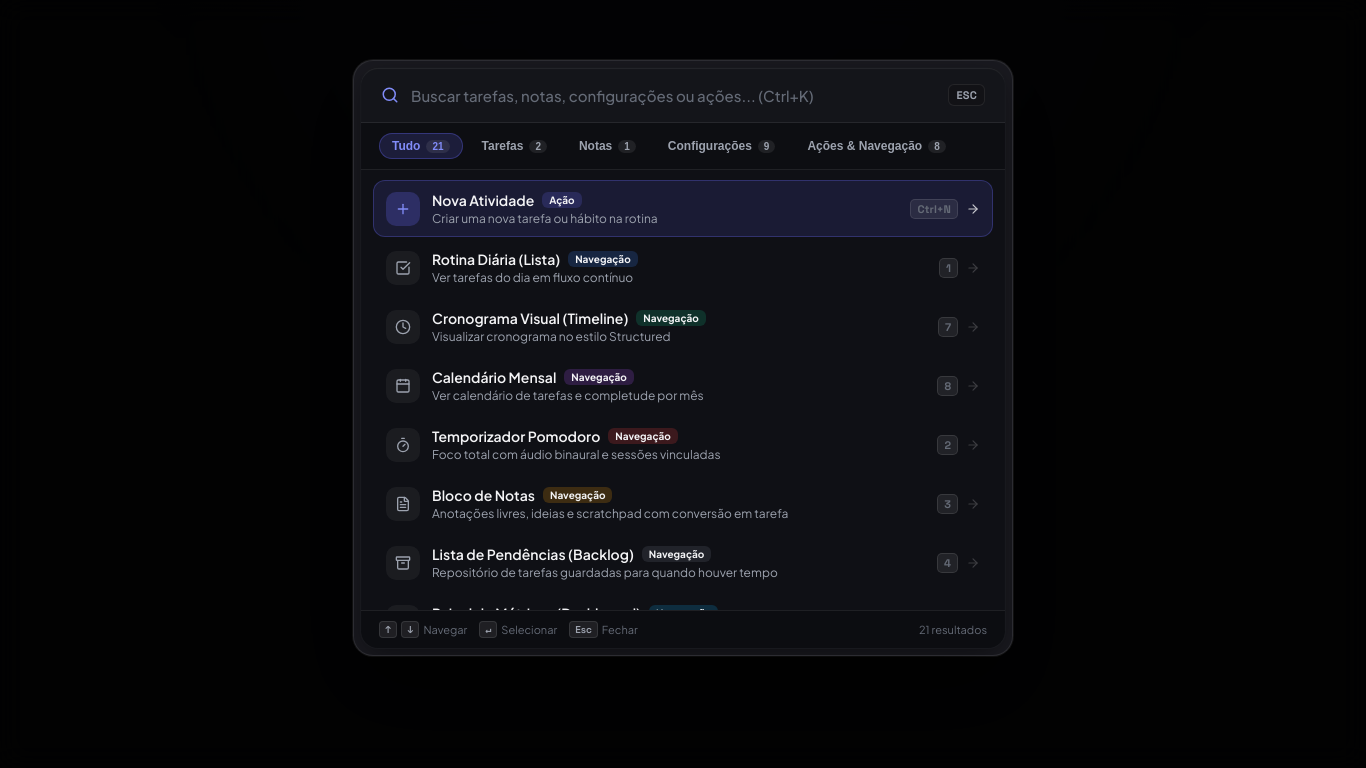
GlobalSearchModal Component › deve exibir estado vazio com mensagem amigável quando nada for encontrado
Type "palavra_inexistente_xyz_123" into the field with test id "global-search-input" at (674, 95), box top-left (411, 84), bottom-right (936, 106)
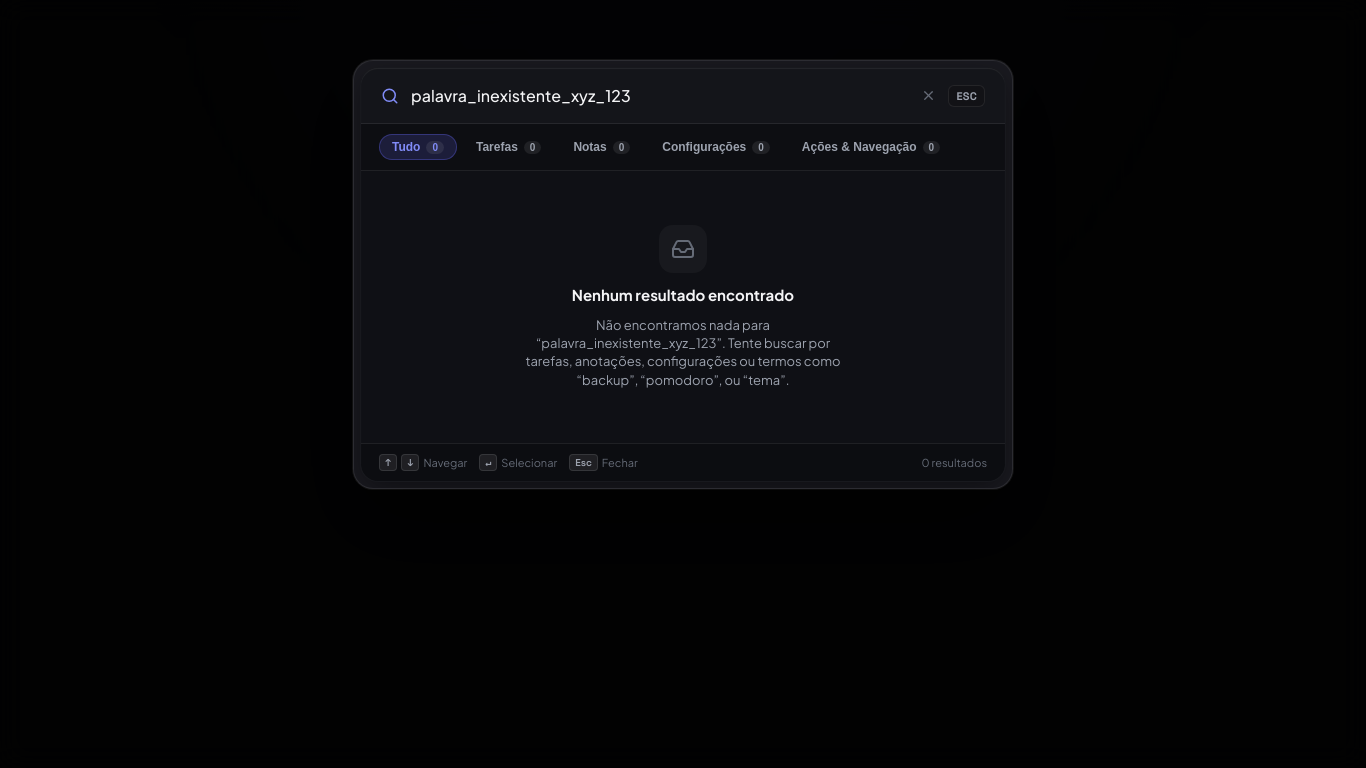
Expected: the text "Nenhum resultado encontrado" is shown, top-left (572, 285), bottom-right (794, 304)
Expected: the text "Não encontramos nada para “palavra_inexistente_xyz_123”" is shown, top-left (513, 316), bottom-right (853, 389)
